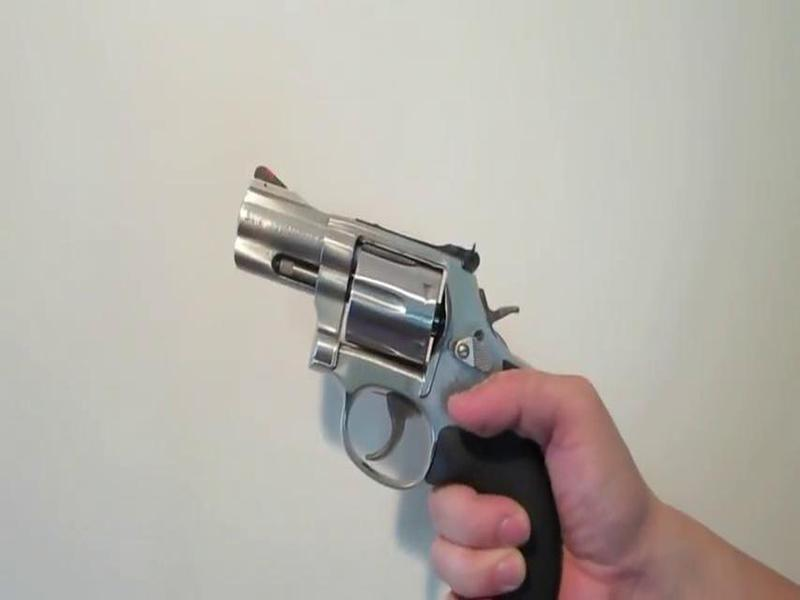Revolver: (228, 152, 587, 564)
